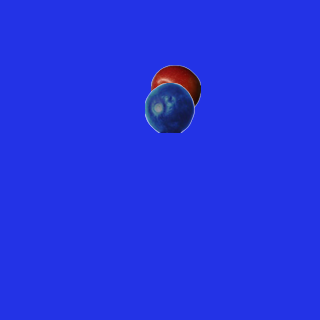Apple Braeburn: (150, 64, 200, 114)
Huckleberry: (144, 82, 194, 132)
